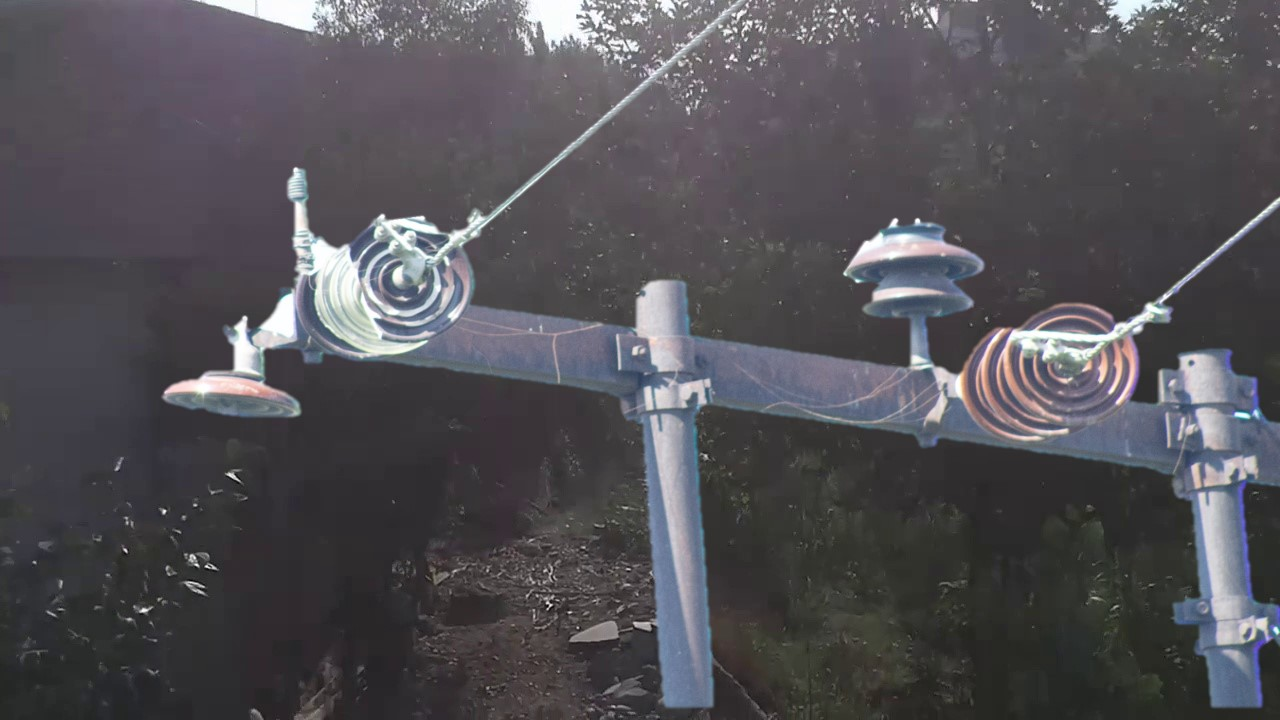defect_disc: (342, 207, 479, 353)
insulator_disc: (999, 301, 1146, 435), (158, 353, 305, 428)
